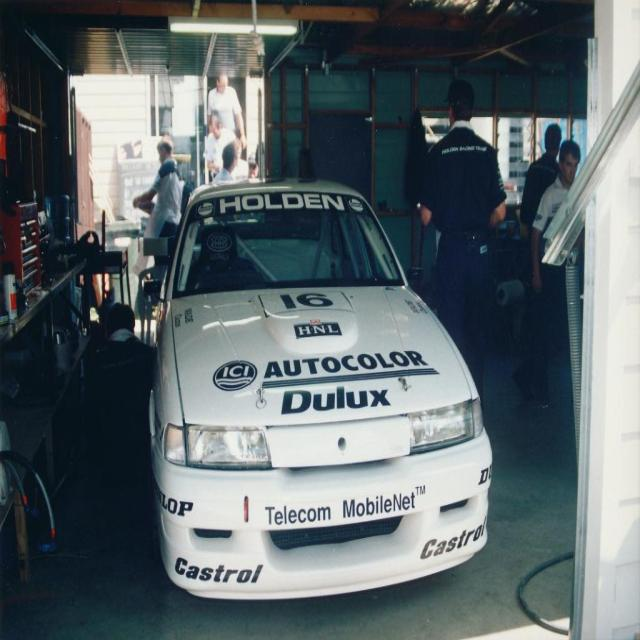car: (130, 168, 478, 597)
